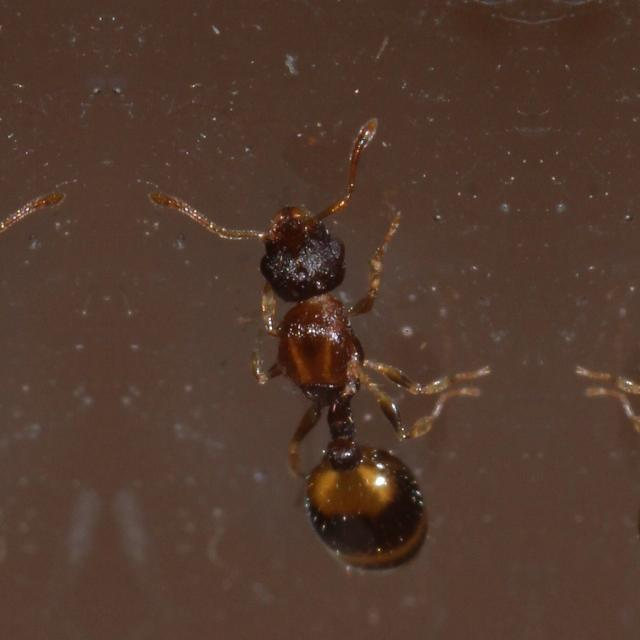Temnothorax: (198, 134, 490, 586), (572, 133, 640, 584)
